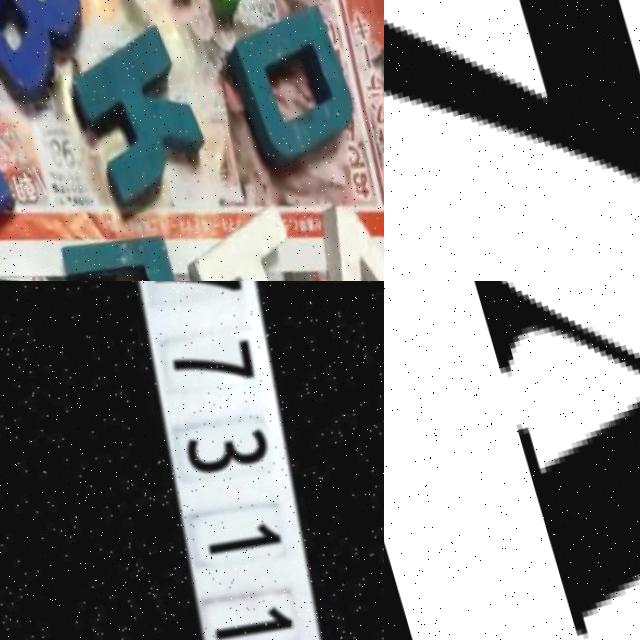1: (189, 486, 297, 575), (193, 567, 310, 640)
3: (167, 396, 287, 495)
7: (384, 0, 640, 281), (155, 310, 272, 407), (135, 281, 260, 323)
B: (0, 0, 104, 109)
D: (217, 0, 367, 182)
H: (180, 198, 333, 281)
K: (68, 24, 218, 206)
M: (53, 222, 198, 281)
X: (451, 281, 640, 640)
Z: (296, 180, 384, 281)
